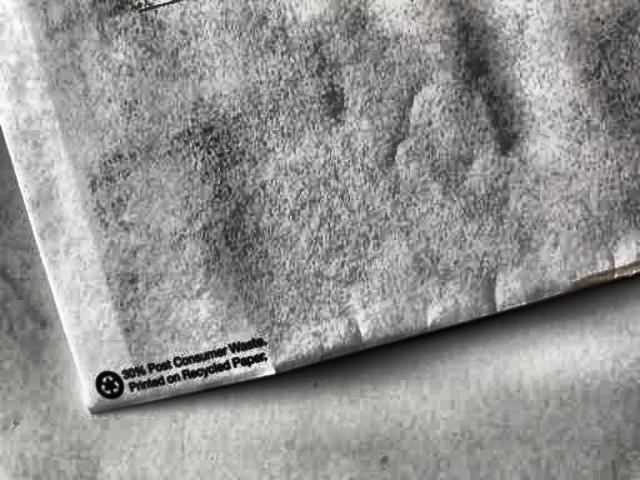Paper: (0, 0, 640, 410)
